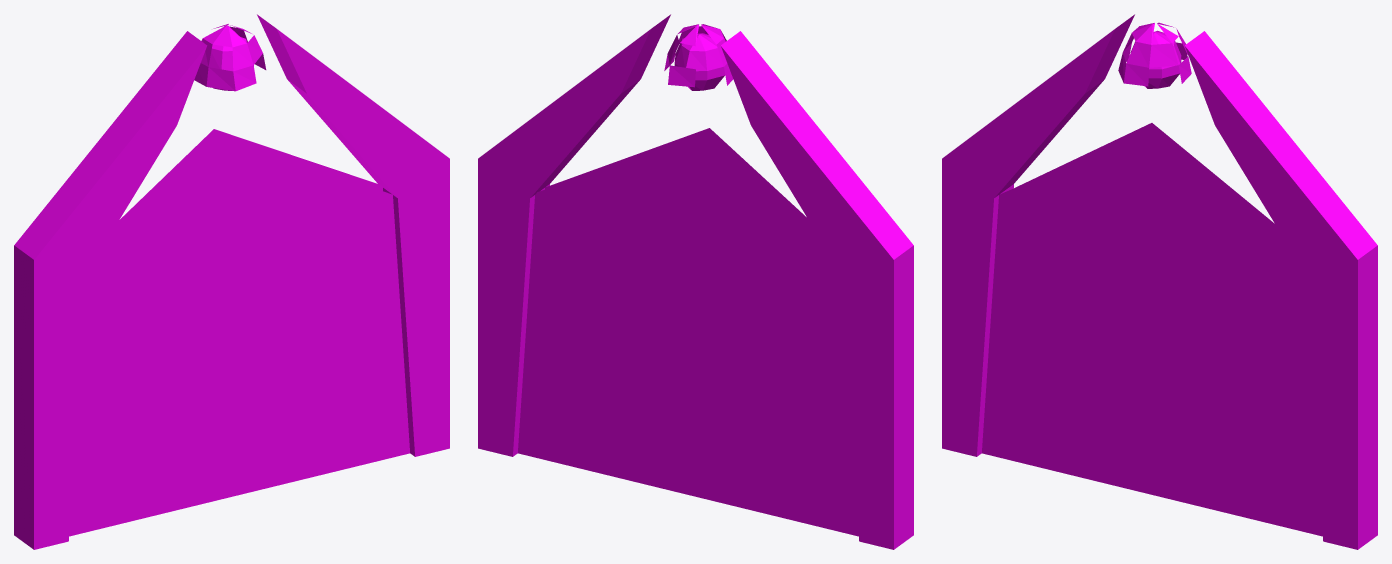
File: magearena door.obj
3 renders of one model, left to right at view 1: azimuth 30°, elevation 25°; view 2: azimuth 150°, elevation 25°; view 3: azimuth 330°, elevation 25°, orthographic.
Parts seen in each view (by area): view 1: magearena door_back; view 2: magearena door_back; view 3: magearena door_back.
Boxes of the visible parts, bbox=[...] form: magearena door_back: bbox=[14, 14, 449, 549]; magearena door_back: bbox=[478, 14, 913, 549]; magearena door_back: bbox=[942, 14, 1377, 549].
Bounding box in the file's own units: 3.84 × 4.13 × 0.63.
